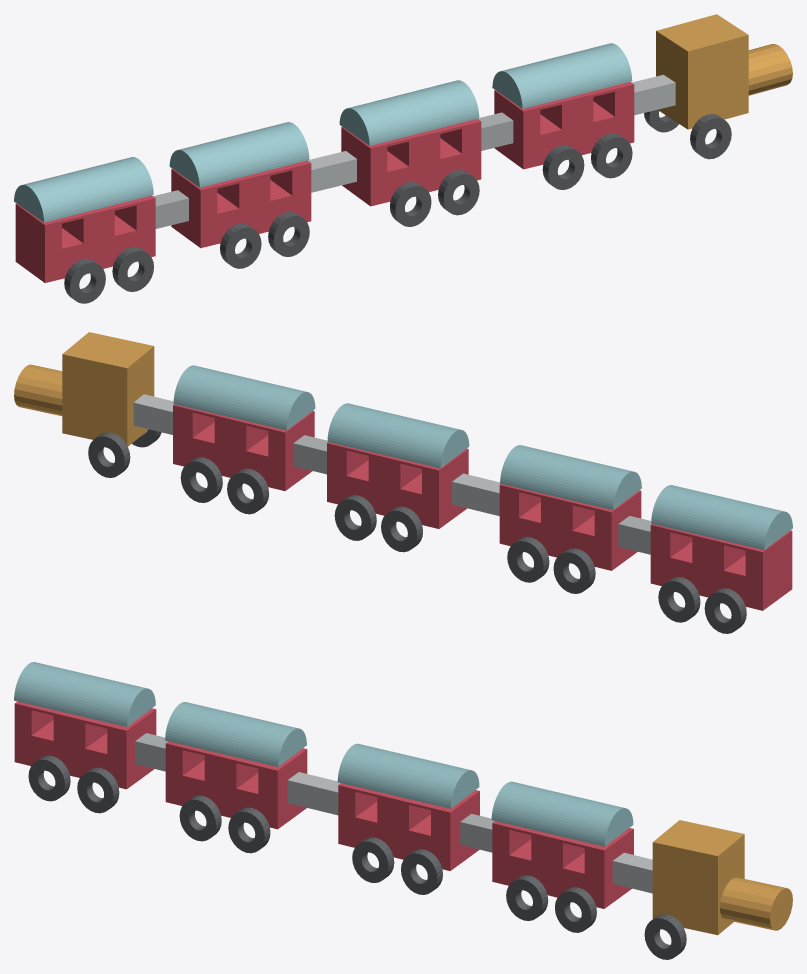
Rendered from Funky Trug-Crift.glb.
3 renders of one model, top to bottom at view 1: azimuth 30°, elevation 25°; view 2: azimuth 150°, elevation 25°; view 3: azimuth 330°, elevation 25°, orthographic.
Parts seen in each view (by area): view 1: Mesh_Mesh_head_geo.001_lambert2SG.001; view 2: Mesh_Mesh_head_geo.001_lambert2SG.001; view 3: Mesh_Mesh_head_geo.001_lambert2SG.001.
Boxes of the visible parts, box(x1,y1,x2,y2) form: Mesh_Mesh_head_geo.001_lambert2SG.001: box(14, 14, 792, 303); Mesh_Mesh_head_geo.001_lambert2SG.001: box(14, 332, 792, 633); Mesh_Mesh_head_geo.001_lambert2SG.001: box(14, 662, 792, 959).
Size of the model in its own units: 311 by 44 by 36.
